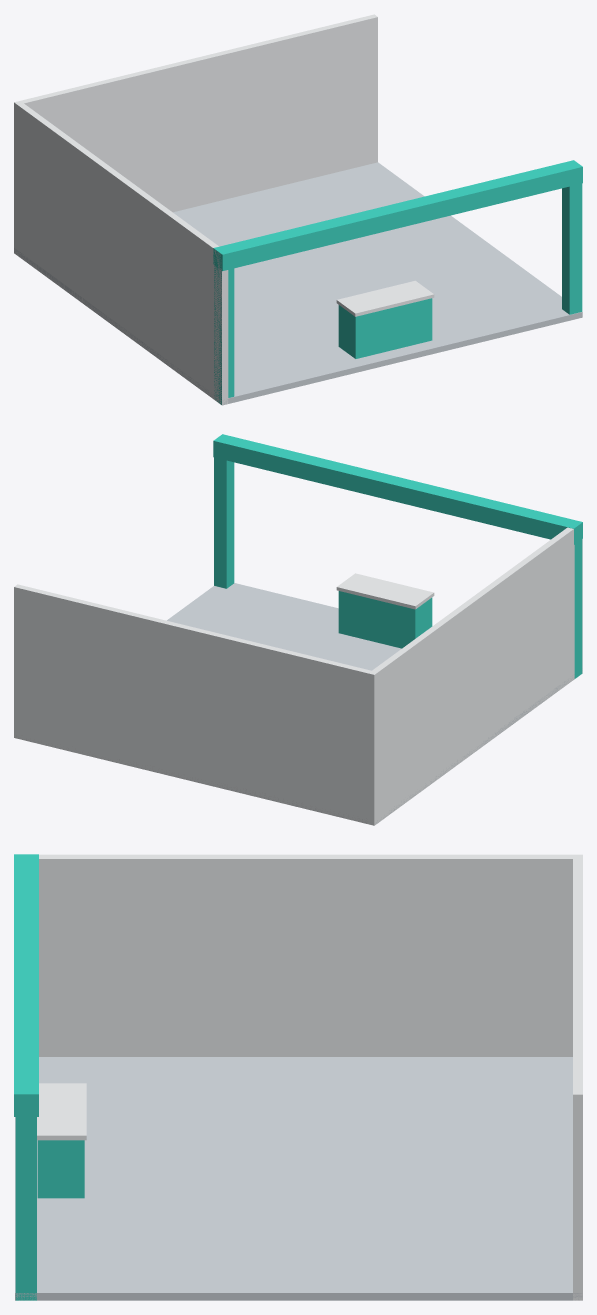
The picture shows the model from 3 angles, top to bottom: view 1: azimuth 30°, elevation 25°; view 2: azimuth 150°, elevation 25°; view 3: azimuth 270°, elevation 25°; orthographic projection. The views are drawn at different scales.
Parts seen in each view (by area): view 1: Exhibition Booth Concept; view 2: Exhibition Booth Concept; view 3: Exhibition Booth Concept.
Part boxes in pixels (x1,y1,x2,y2): Exhibition Booth Concept: [14, 14, 582, 405]; Exhibition Booth Concept: [14, 434, 582, 825]; Exhibition Booth Concept: [14, 854, 582, 1300].
Size of the model in its own units: 8 by 3.2 by 8.01.
